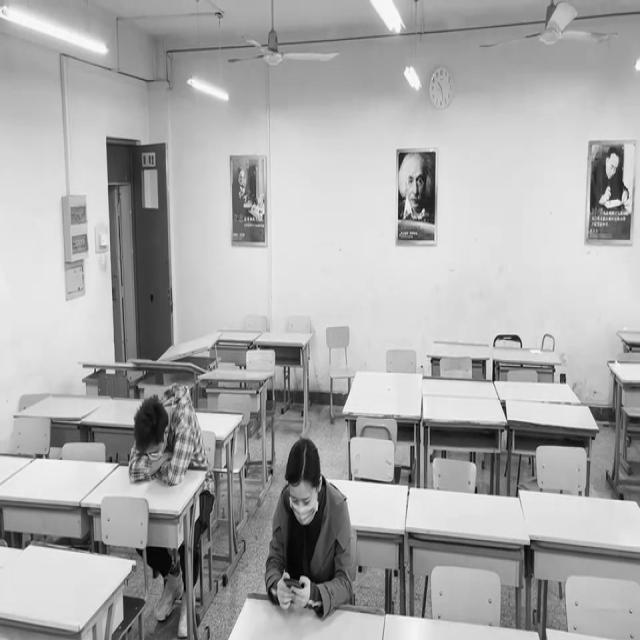phone: (265, 438, 350, 615)
sleep: (125, 384, 200, 485)
